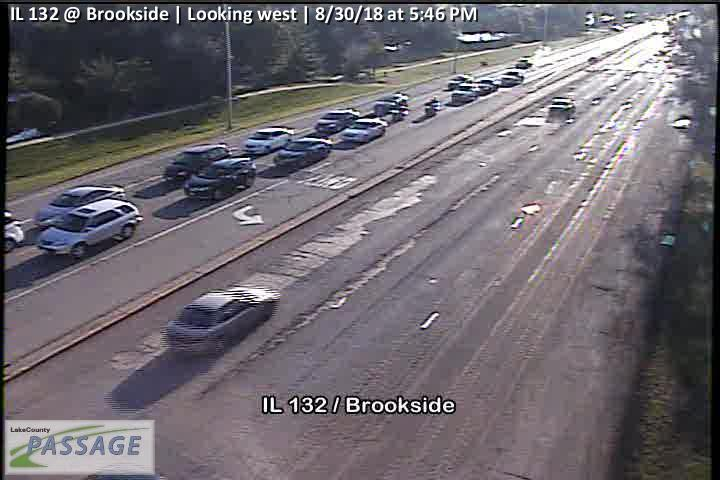SUV: (164, 286, 281, 356), (36, 199, 139, 257), (184, 157, 256, 200), (163, 144, 230, 185), (449, 81, 479, 104), (547, 98, 576, 120), (500, 71, 523, 87), (477, 78, 497, 96)
Sedan: (34, 183, 127, 230), (273, 138, 331, 171), (242, 125, 295, 155), (313, 107, 360, 137), (338, 117, 388, 145)
